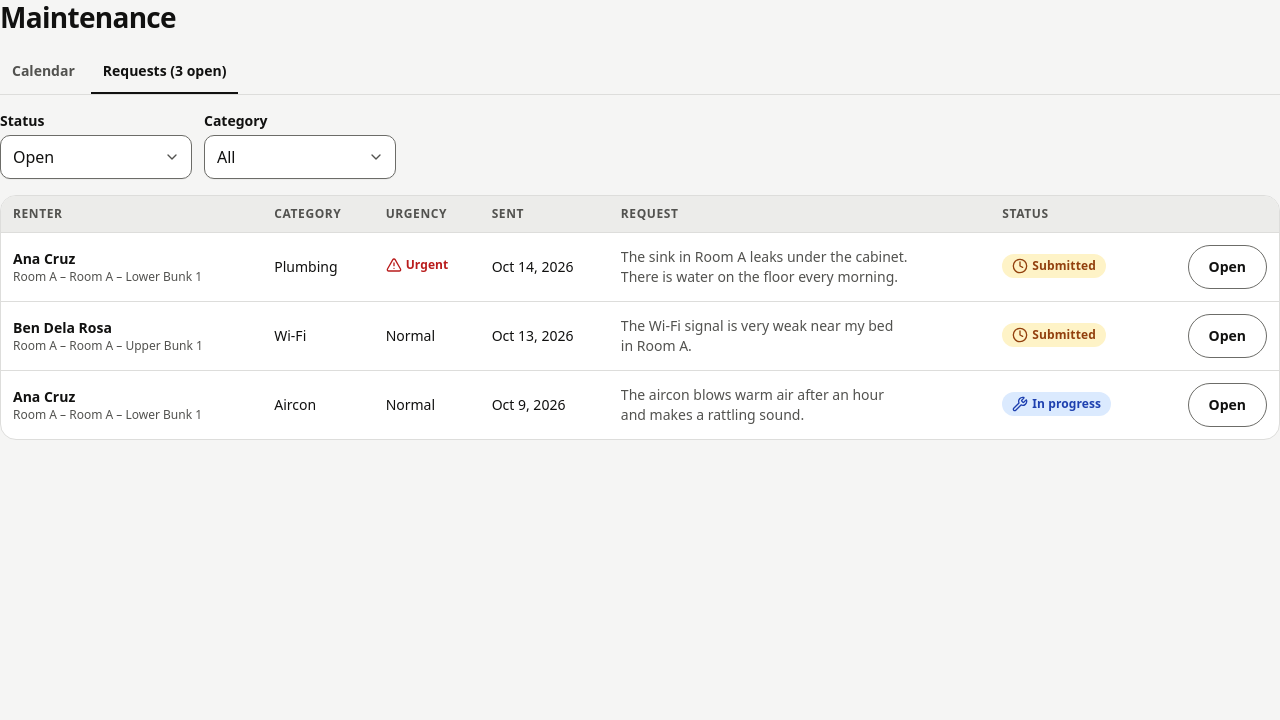
Test: AdminMaintenancePage (F42, R75, BR-19, SC-91) › Decline asks for a reason in a stacked dialog (E70)
The width and height of the screenshot is (1280, 720).
expect the table named "Maintenance" is shown: met, box [1,196,1279,439]
Click the button with aria-label "Open Wi-Fi request from Ben Dela Rosa" at (1227, 336), box [1188,314,1267,358]
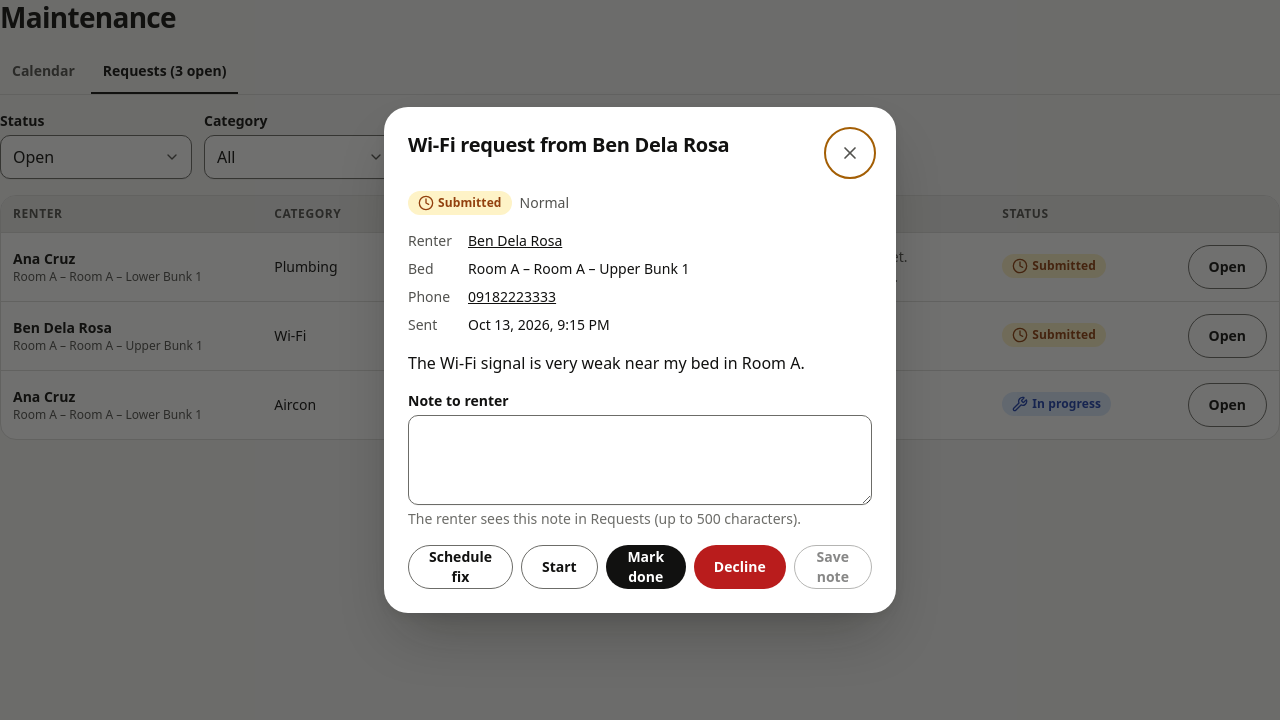
Click the button "Decline" at (740, 567), box [694,545,786,589]
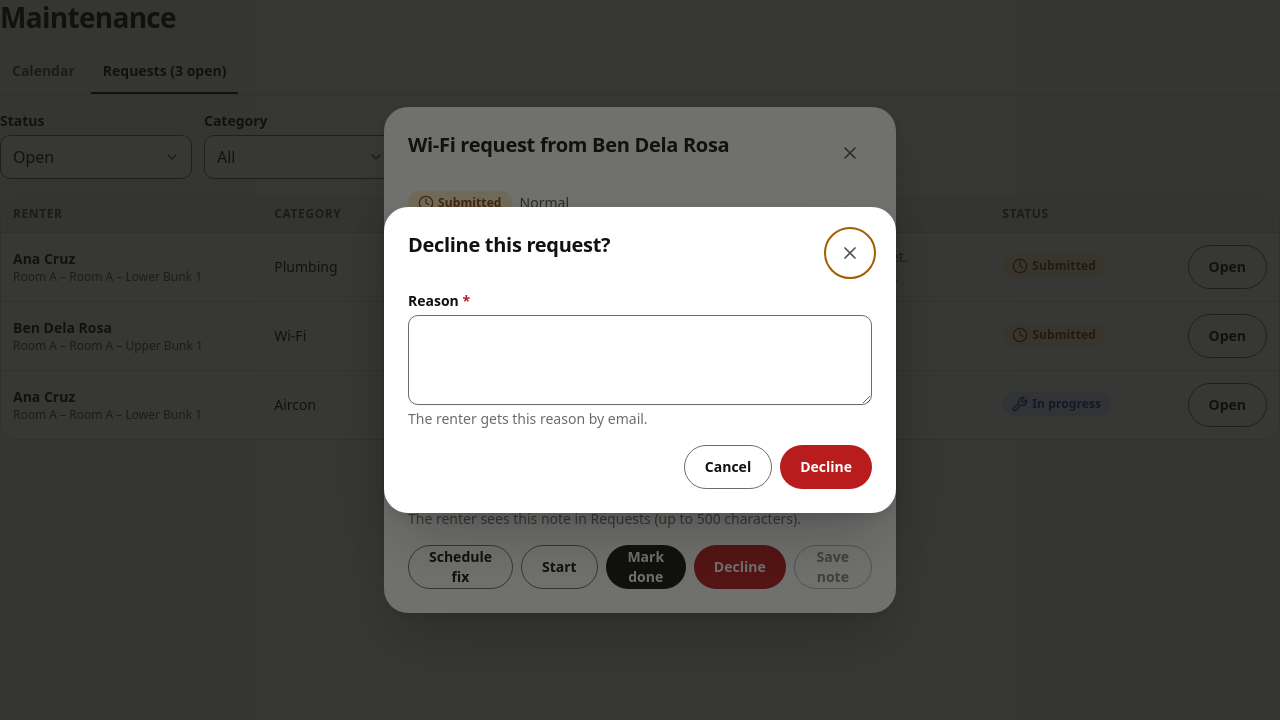
Click the button "Decline" at (826, 467), box [780,445,872,489]
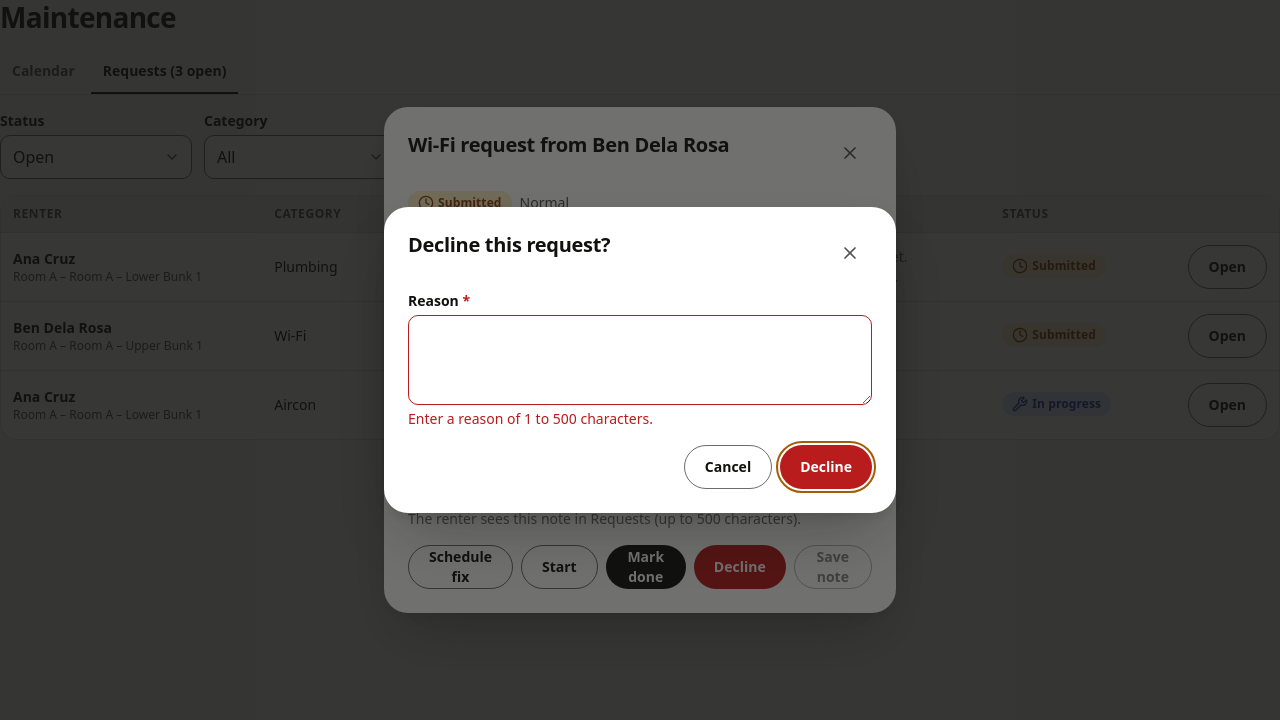
expect the text "Enter a reason of 1 to 500 characters." is shown: met, box [408,409,653,428]
Type "Wi-Fi provider outage" into the text box labelled "Reason *" at (640, 360), box [408,315,872,405]
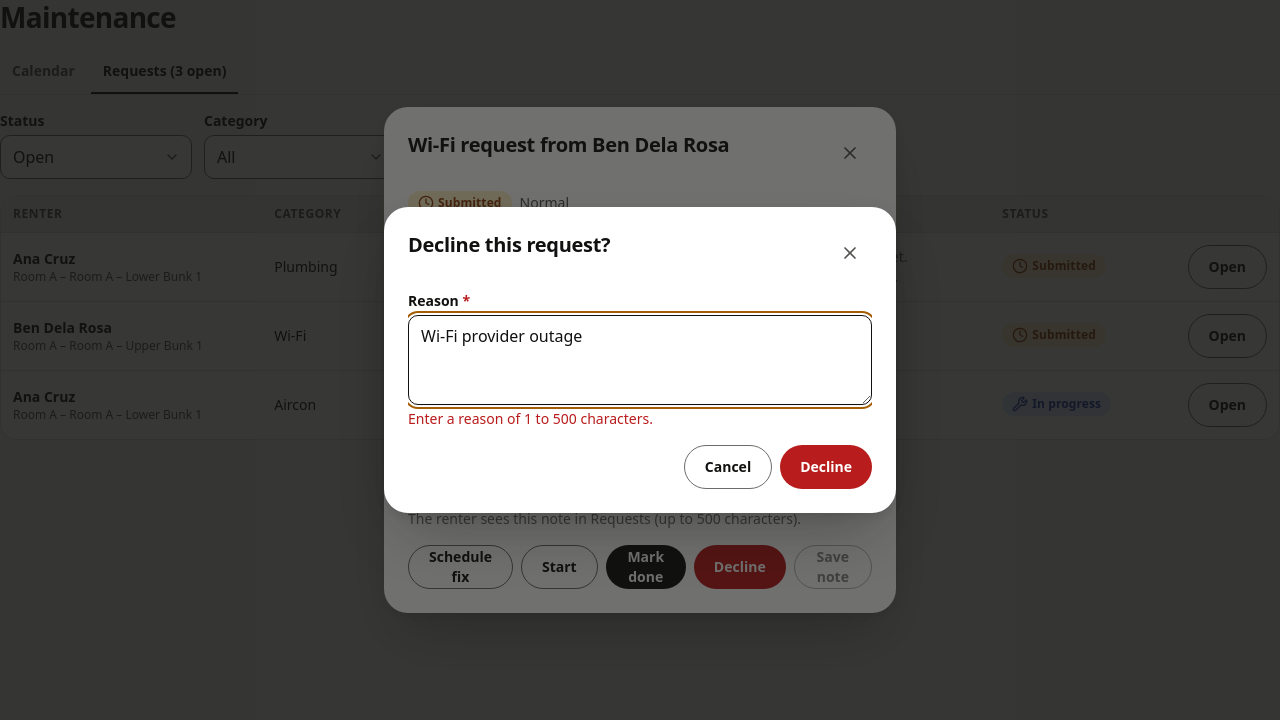
Click the button "Decline" at (826, 467), box [780,445,872,489]
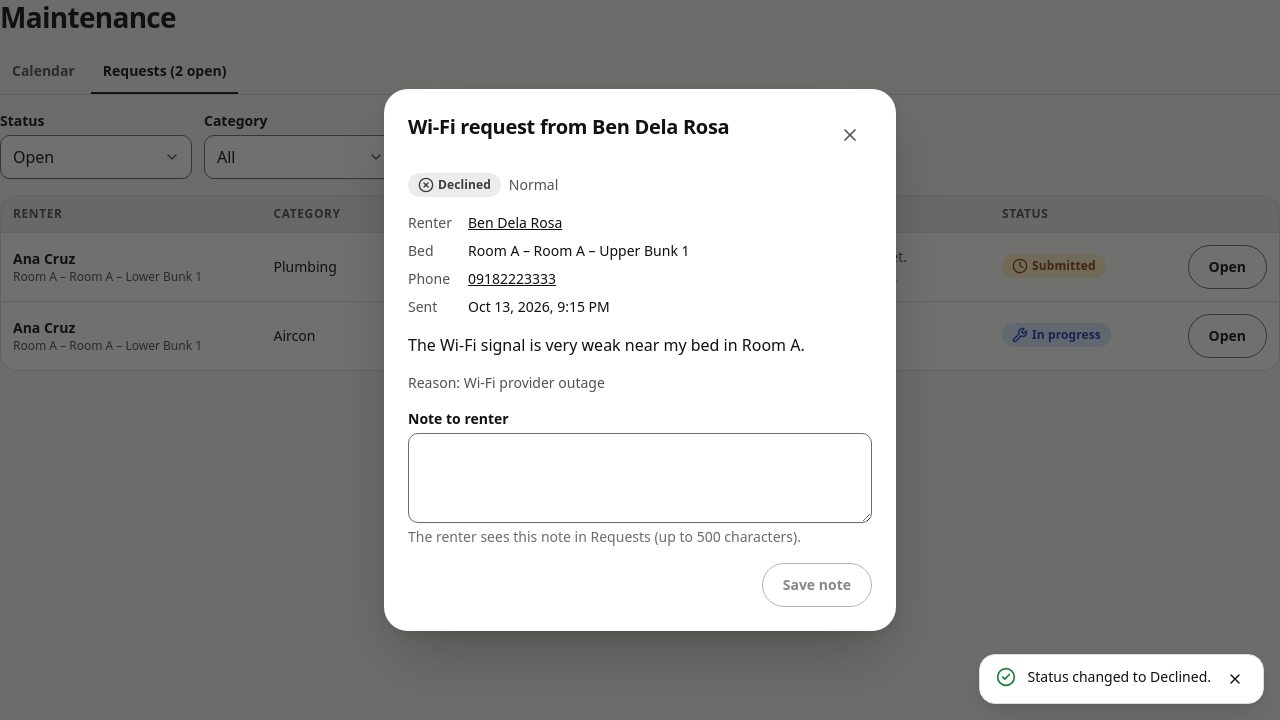
expect the text "Status changed to Declined." is shown: met, box [1028,667,1211,687]
expect the heading "Decline this request?" is gone: met
